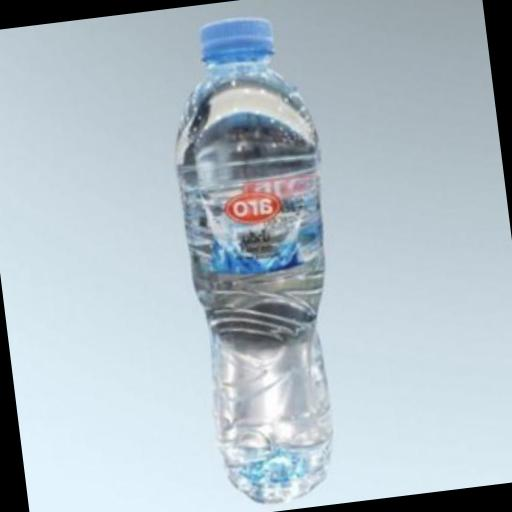Coca: (145, 4, 370, 512)
